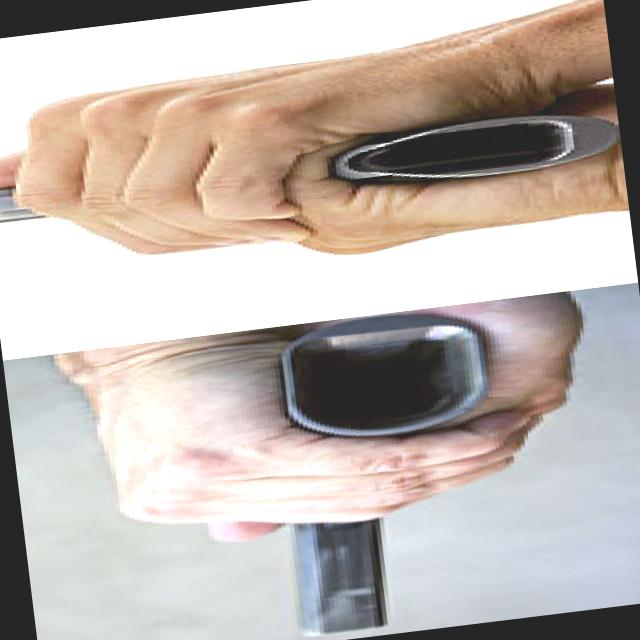handgun: (244, 306, 529, 639)
